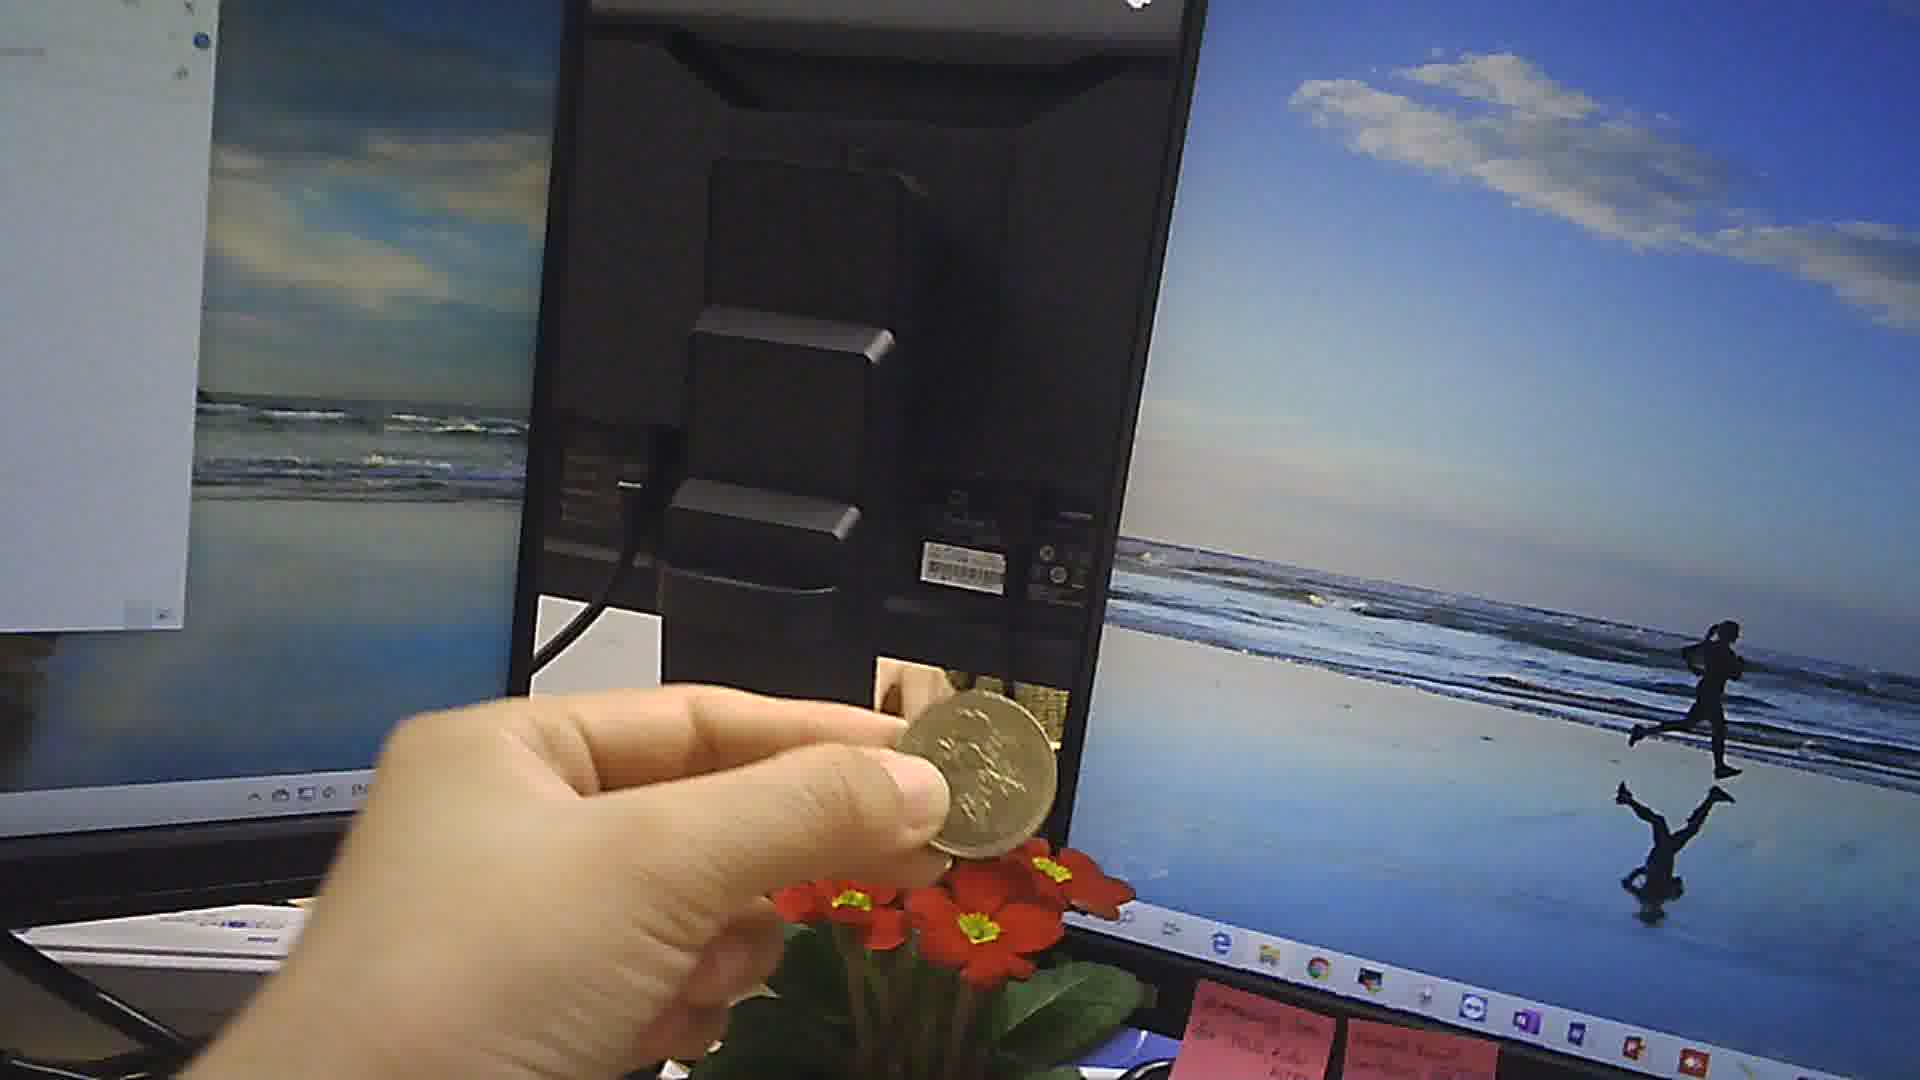500 Yen: (891, 683, 1059, 874)
